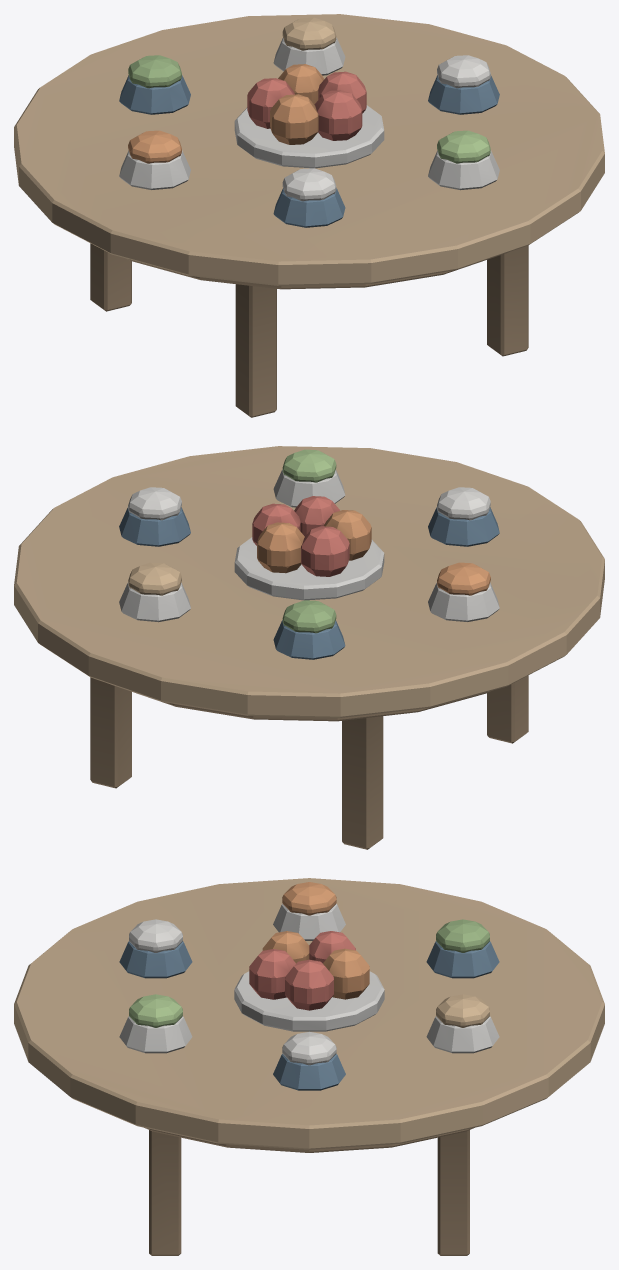
The model's file is harvest_feast_table.glb.
3 views of the same model, one above another, from view 1: azimuth 30°, elevation 25°; view 2: azimuth 150°, elevation 25°; view 3: azimuth 270°, elevation 25° (orthographic).
Size of the model in its own units: 1.1 by 0.5 by 1.1.
